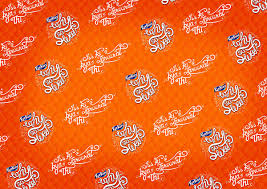kurkure: (124, 69, 138, 82), (137, 20, 152, 32), (226, 30, 241, 42), (212, 81, 227, 93), (33, 61, 47, 73), (18, 111, 32, 123), (199, 127, 213, 139), (111, 121, 124, 133), (187, 175, 200, 187), (44, 13, 59, 23), (94, 169, 106, 179), (6, 163, 19, 172)
